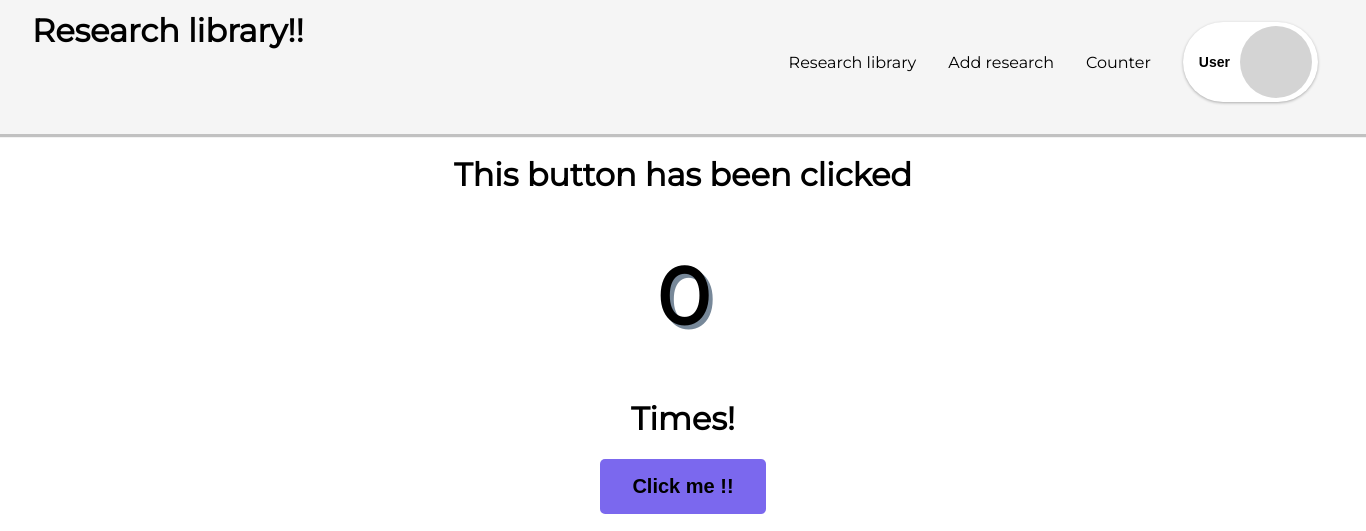
Test: Index testen › Counter tests › Test counter button
Check: the heading "0" is shown, box [656, 248, 710, 345]
Click the button with class "btn-counter".
click(683, 487)  # box [600, 459, 765, 514]
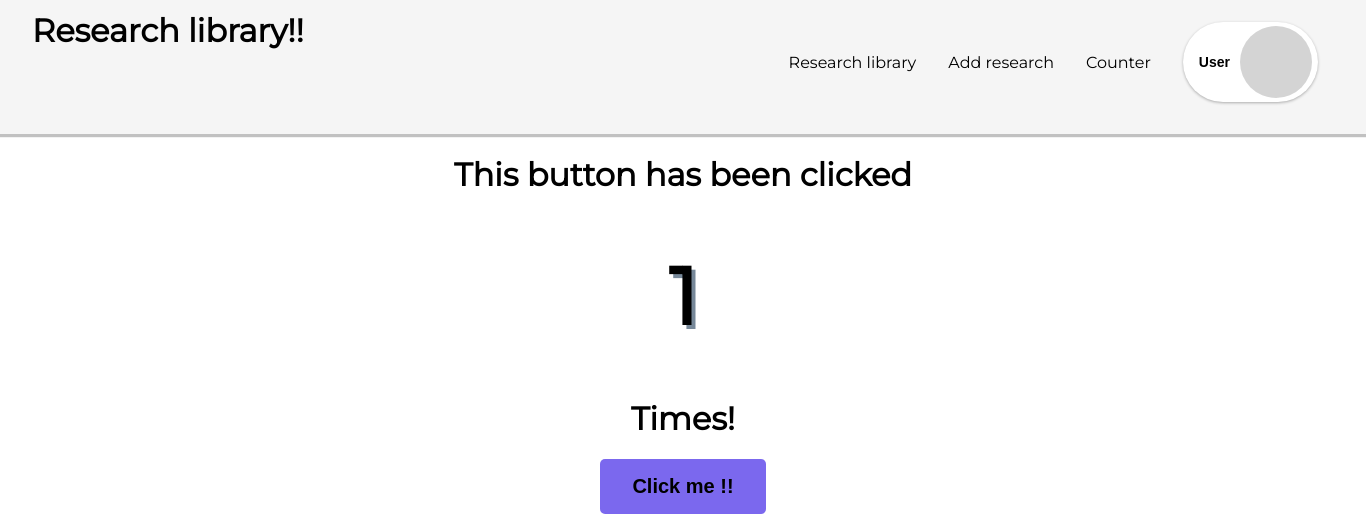
Click the button with class "btn-counter".
click(683, 487)  # box [600, 459, 765, 514]
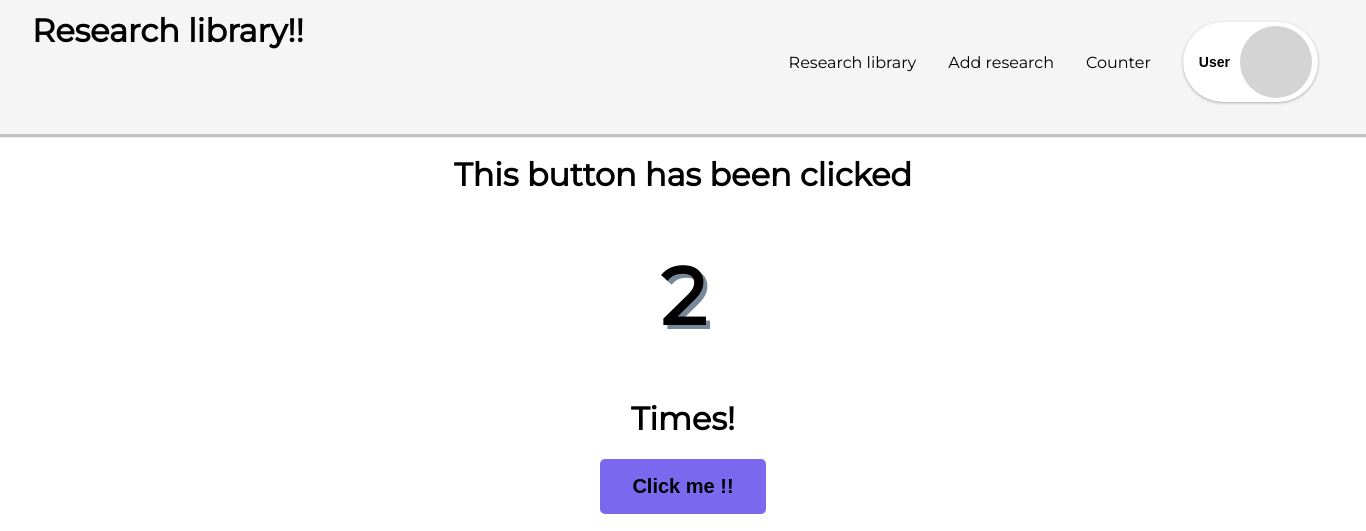
Click the button with class "btn-counter".
click(683, 487)  # box [600, 459, 765, 514]
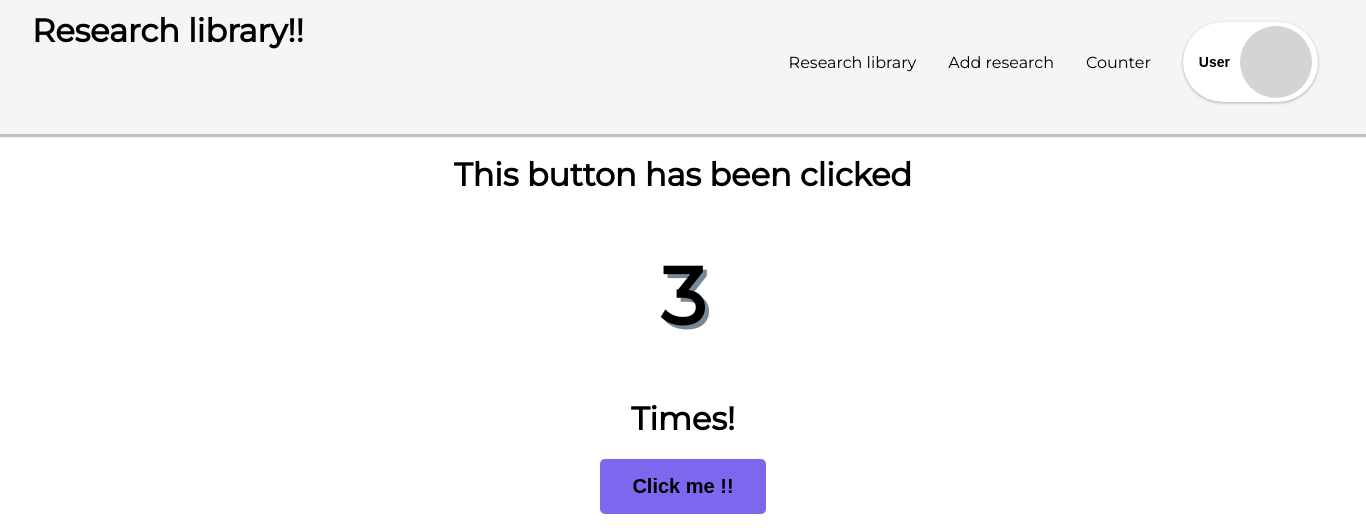
Click the button with class "btn-counter".
click(683, 487)  # box [600, 459, 765, 514]
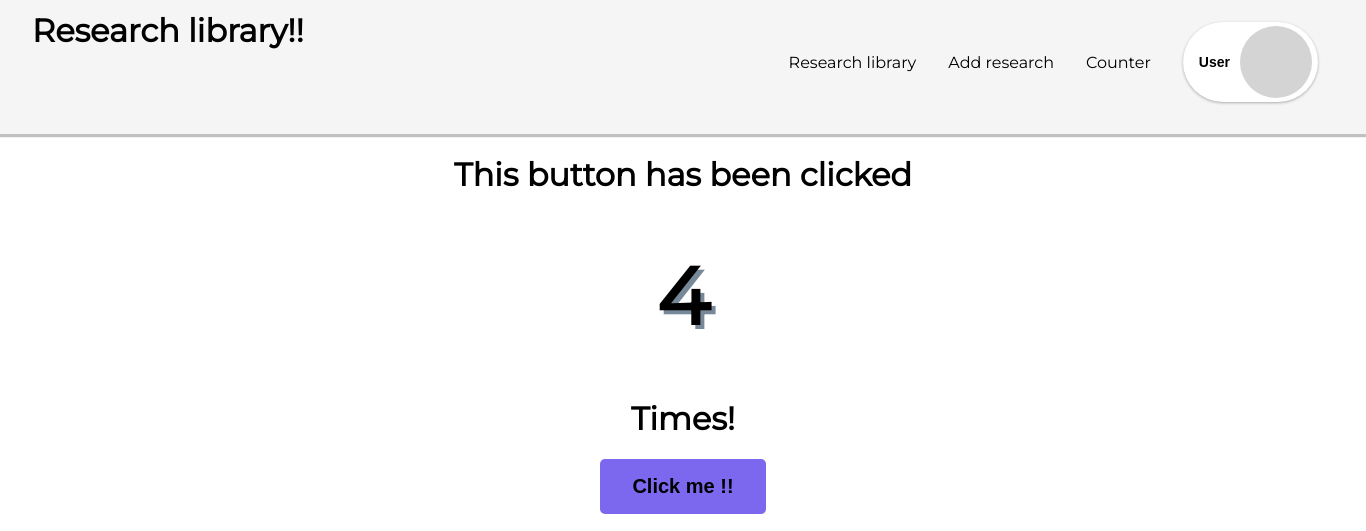
Click the button with class "btn-counter".
click(683, 487)  # box [600, 459, 765, 514]
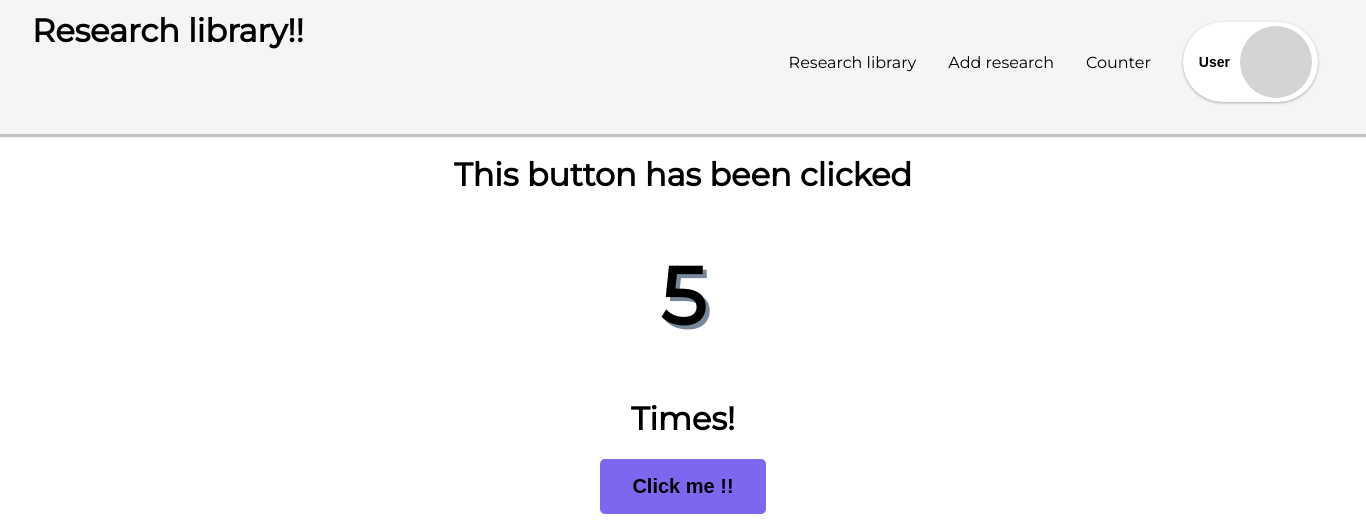
Check: the heading "5" is shown, box [660, 248, 706, 345]
